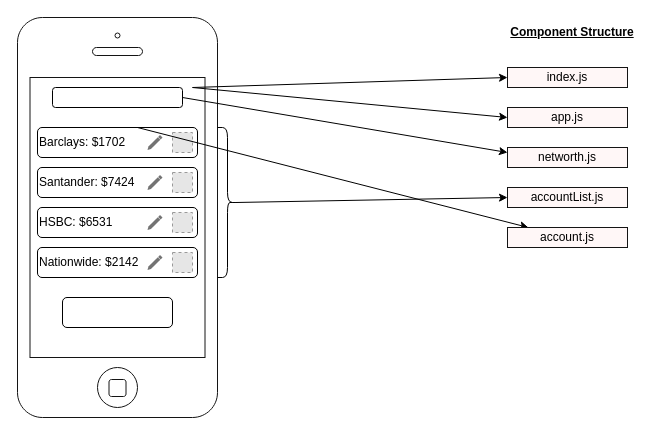
This 655x435 diagram has some shape labels left out. Grey dashed boxes stand in for pictures. The box of each missing label's shape, as (x1, y1, x2, y2) in pixels:
Add New Account: (62, 296, 172, 328)
Networth: $18,392: (52, 86, 182, 108)
